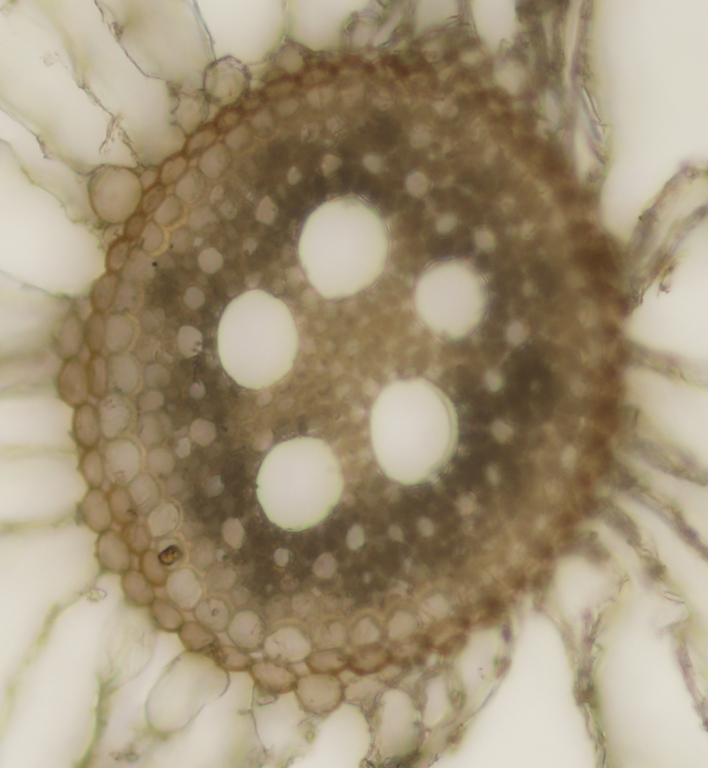lm: (369, 377, 459, 484), (296, 195, 387, 300), (255, 435, 345, 530), (215, 288, 297, 391), (414, 256, 487, 340)
